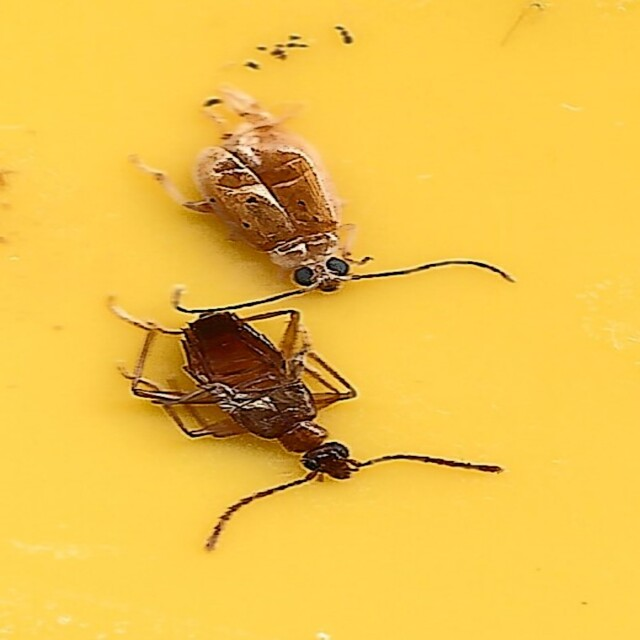Coleoptera: (123, 308, 508, 553), (126, 87, 517, 316)
